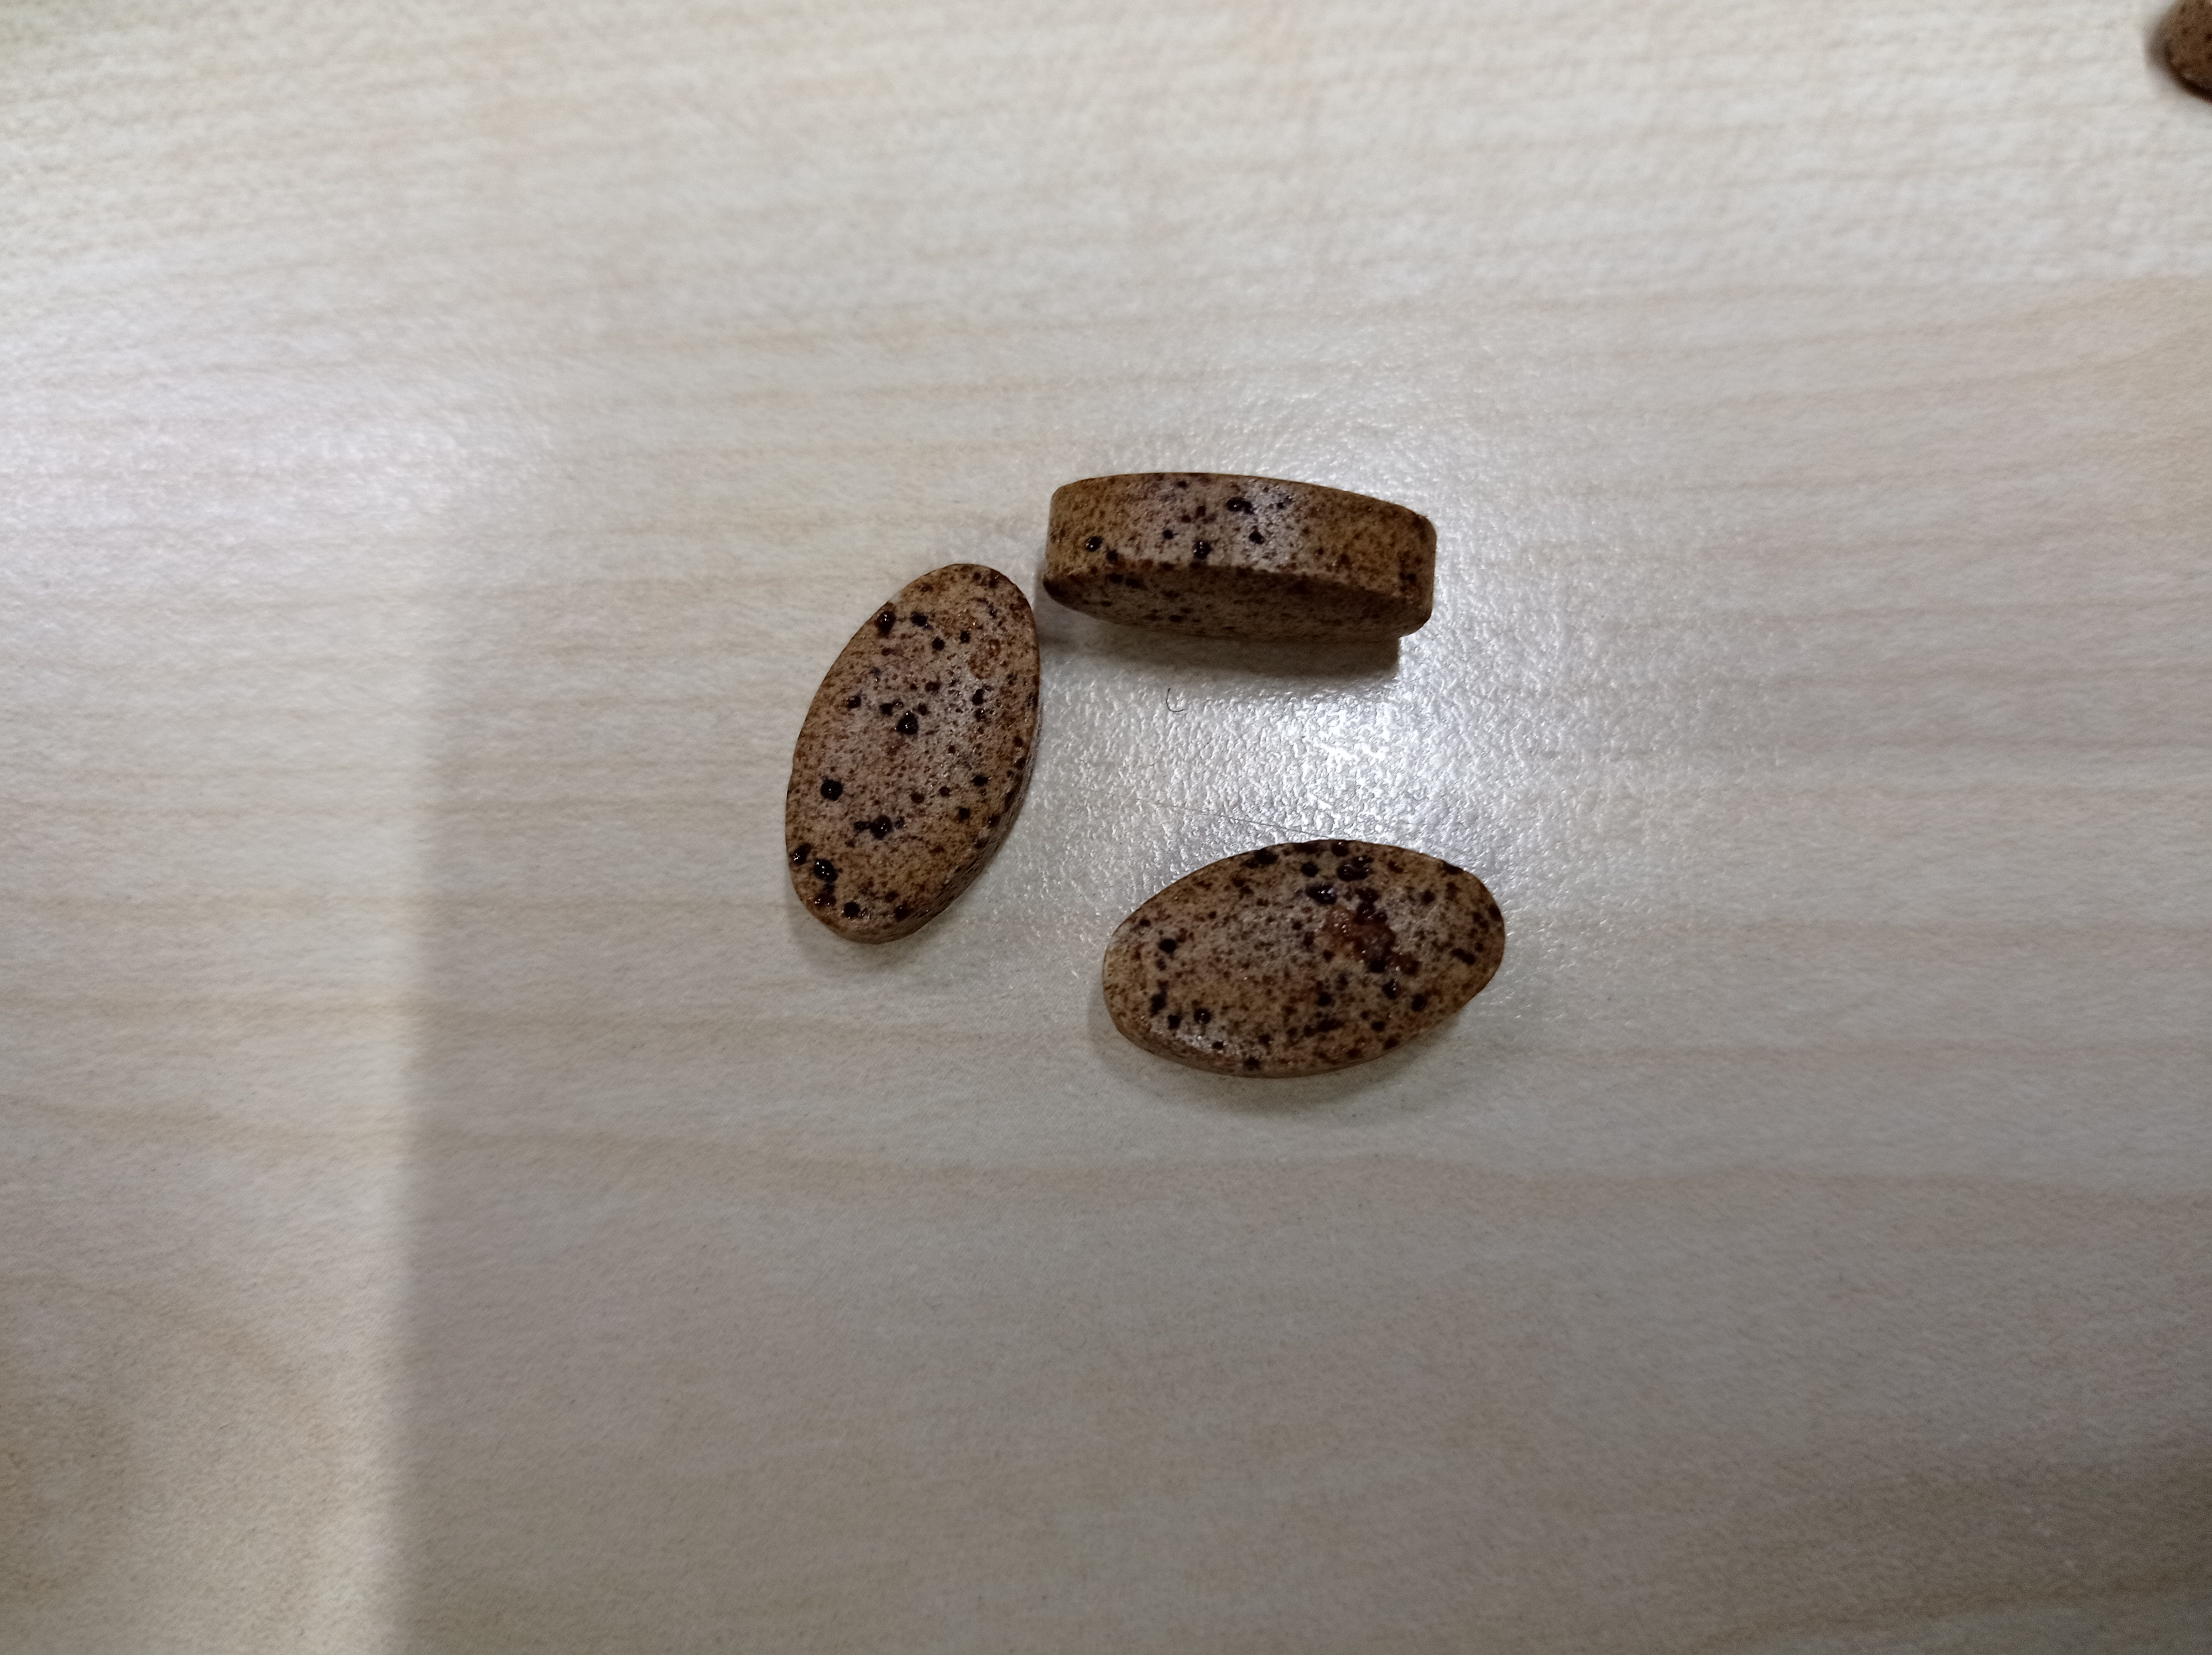brown_medicine: (780, 563, 1044, 951), (1102, 843, 1496, 1066), (1036, 480, 1423, 626)
